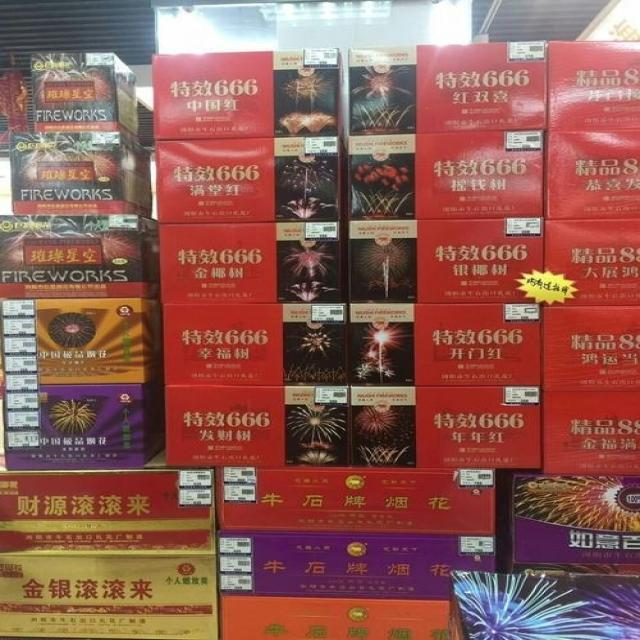box: (219, 531, 495, 601), (0, 469, 216, 555), (218, 467, 494, 534), (5, 373, 165, 470), (1, 298, 163, 385), (0, 214, 160, 298), (451, 571, 640, 640), (10, 131, 152, 219), (416, 40, 547, 133), (415, 130, 544, 220), (513, 474, 640, 563), (416, 217, 544, 303), (152, 51, 274, 140), (413, 303, 540, 386), (155, 138, 276, 225), (416, 386, 543, 468), (221, 597, 458, 640), (163, 304, 283, 386), (157, 223, 278, 304), (165, 386, 284, 467), (31, 53, 138, 143), (541, 219, 640, 306), (541, 306, 640, 391), (541, 391, 640, 476), (547, 40, 640, 130), (547, 130, 640, 220), (271, 47, 340, 138), (348, 46, 417, 135), (349, 133, 416, 221), (275, 221, 346, 303), (274, 135, 340, 223), (349, 302, 415, 387), (349, 221, 417, 302), (284, 386, 351, 467), (283, 303, 348, 386), (351, 386, 416, 468), (512, 560, 640, 576)
